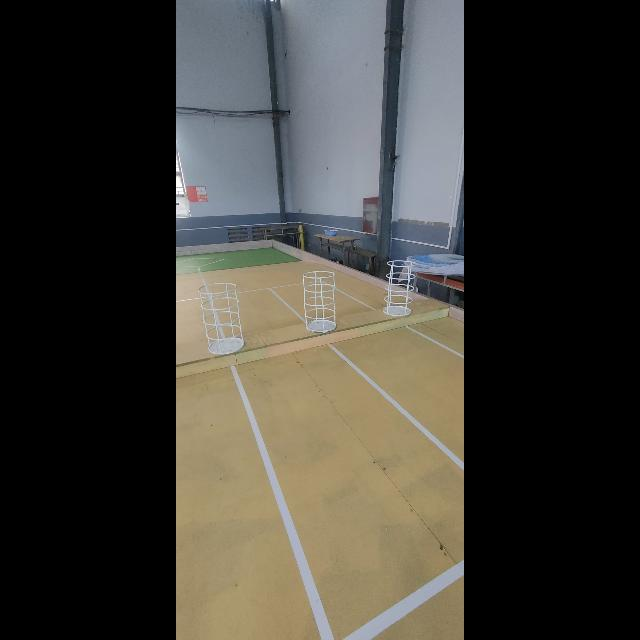S: (199, 282, 245, 356), (303, 270, 337, 334), (384, 260, 416, 318)
